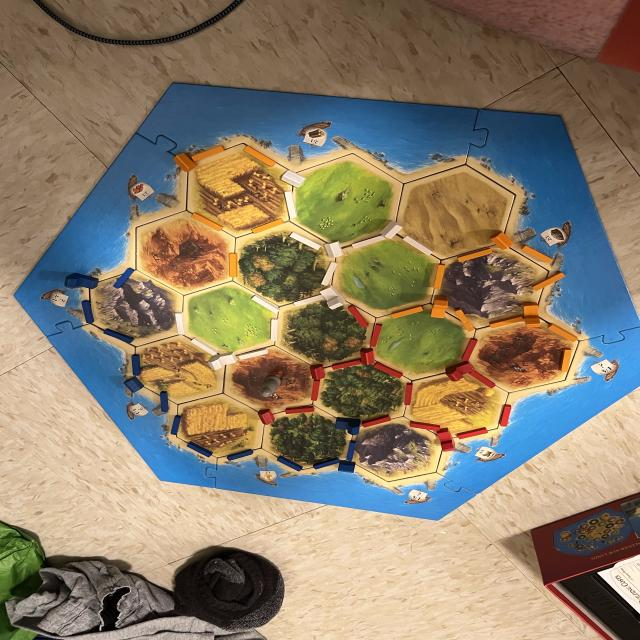blue-city: (63, 272, 102, 292), (333, 416, 361, 436)
blue-road: (103, 328, 134, 345), (186, 440, 213, 458), (277, 454, 302, 472), (113, 268, 135, 288), (81, 299, 94, 324), (227, 449, 253, 461), (312, 458, 340, 469), (159, 391, 170, 412), (131, 354, 141, 377), (171, 414, 181, 435), (346, 441, 356, 461)
blue-settlement: (121, 376, 147, 394), (337, 460, 356, 474)
orange-city: (430, 295, 451, 320), (521, 302, 540, 328)
orange-road: (242, 147, 278, 167), (520, 244, 554, 264), (190, 213, 224, 232), (190, 145, 227, 162), (534, 272, 565, 291), (547, 322, 576, 342), (488, 316, 528, 329), (390, 304, 422, 320), (250, 219, 283, 234), (458, 249, 493, 263), (455, 308, 475, 332), (559, 347, 575, 373), (227, 251, 239, 278), (432, 264, 443, 290)
orange-settlement: (173, 152, 197, 173), (489, 232, 515, 250)
red-city: (446, 361, 475, 382), (436, 426, 455, 452)
red-road: (345, 304, 370, 328), (470, 371, 497, 390), (373, 362, 402, 379), (361, 414, 390, 428), (368, 322, 382, 348), (457, 428, 488, 439), (408, 422, 442, 432), (499, 404, 513, 428), (462, 339, 476, 362), (331, 360, 361, 370), (309, 379, 321, 402), (284, 406, 314, 414), (405, 383, 413, 405)
red-settlement: (358, 347, 376, 365), (308, 364, 326, 381), (258, 408, 274, 426)
white-city: (319, 286, 346, 310), (208, 351, 237, 372)
white-road: (287, 232, 322, 252), (249, 294, 281, 313), (404, 236, 433, 256), (188, 337, 218, 355), (236, 346, 267, 362), (319, 262, 338, 286), (292, 294, 323, 308), (283, 190, 297, 220), (352, 236, 385, 248), (174, 311, 186, 336), (269, 318, 280, 342)
white-settlement: (280, 168, 306, 190), (379, 218, 403, 240), (322, 240, 344, 259)
